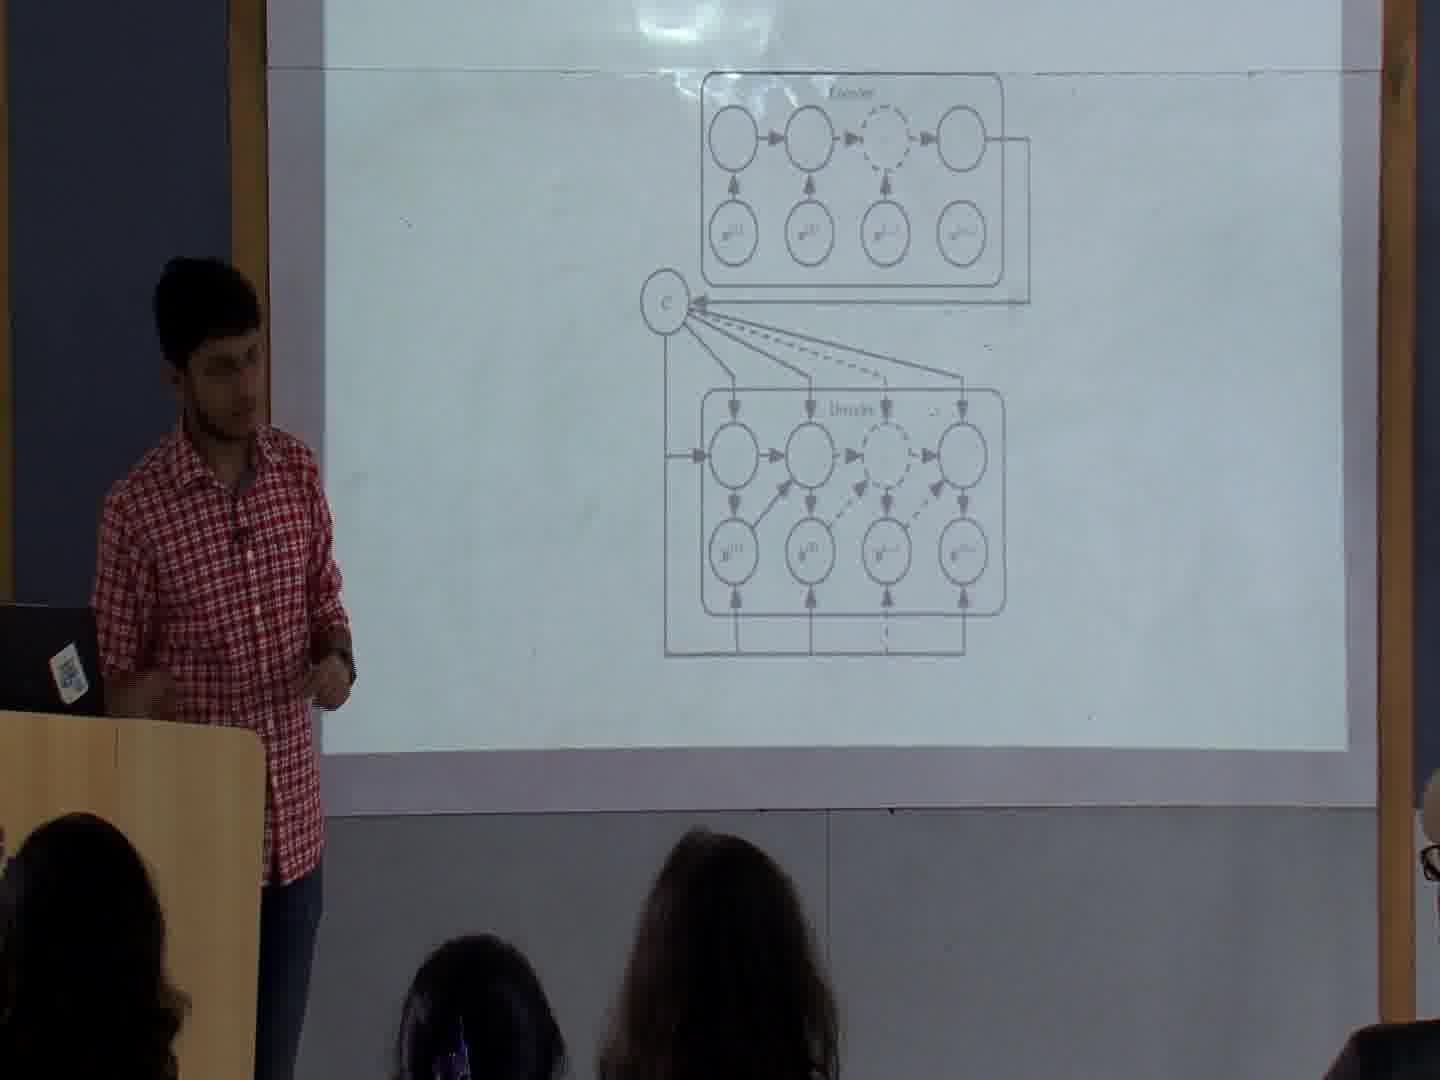slide: (322, 1, 1348, 749)
